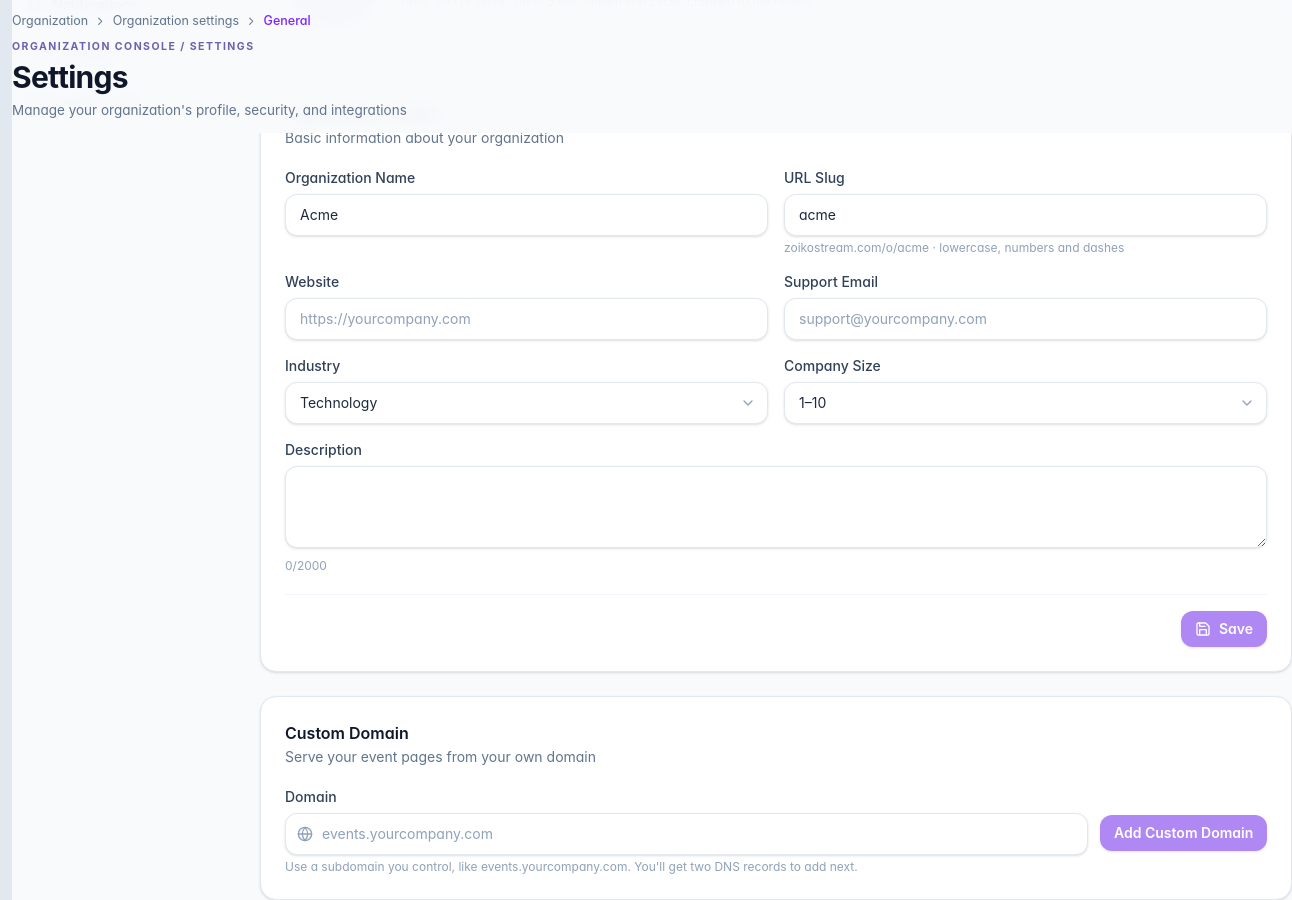
Test: with custom domains available › when the feature was switched off since the page loaded: the server's words, no success, nothing lost, ready to retry
(page scrolled)
Type "https://events.acme.com/x" into the field labelled "Domain".
click(686, 834); type("https://events.acme.com/x")  # box [285,813,1088,855]
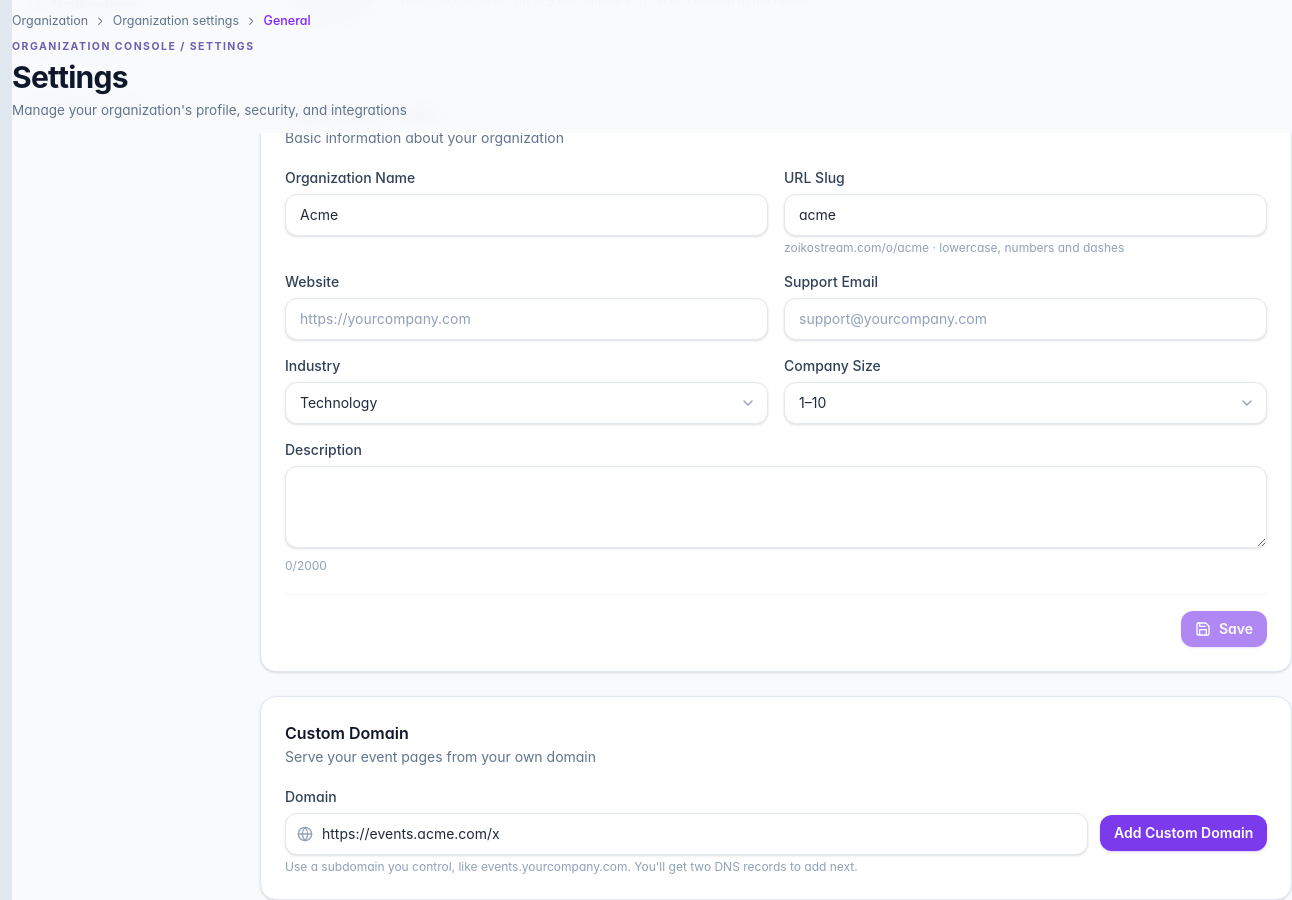
Click the button "Add Custom Domain".
click(1183, 833)  # box [1100,815,1267,851]
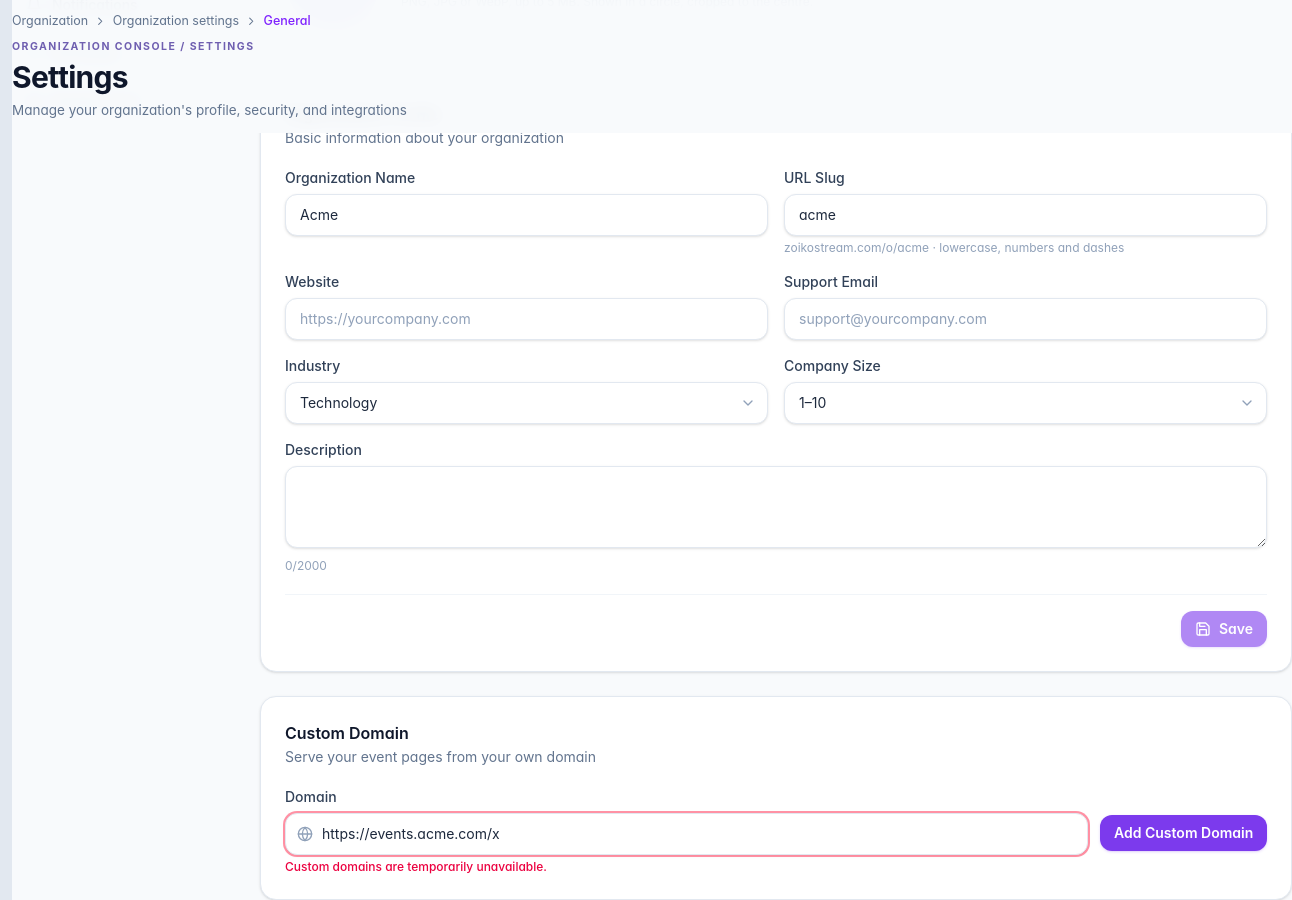
Expected: the button "Add Custom Domain" is enabled, [1100,815,1267,851]
Expected: the text "Custom domains are temporarily unavailable." is shown, [285,859,547,874]
